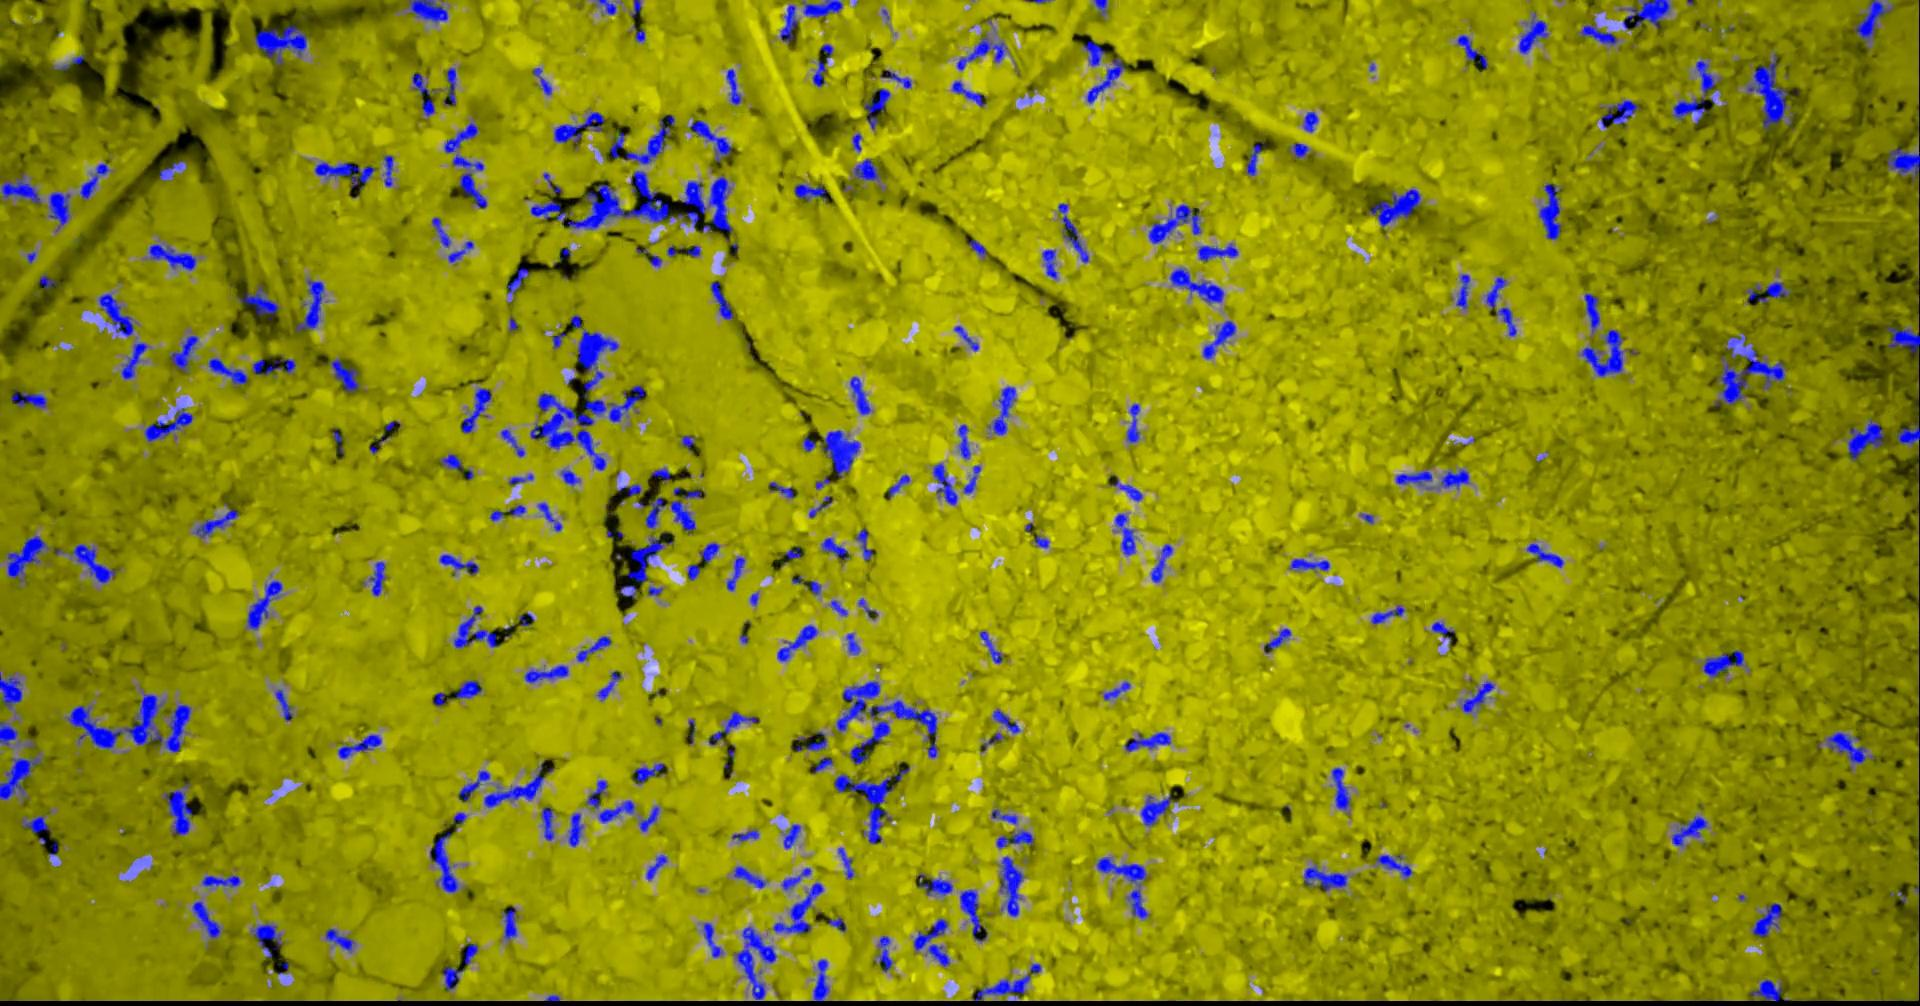ant: (1096, 856, 1148, 918), (734, 926, 776, 998), (1672, 60, 1718, 124), (483, 760, 543, 807), (772, 882, 823, 934), (973, 963, 1040, 1001), (625, 116, 674, 163), (627, 536, 673, 582), (552, 111, 604, 149), (1148, 205, 1200, 243), (1580, 329, 1622, 376), (453, 605, 500, 647), (1170, 267, 1223, 304), (1369, 189, 1420, 227), (1853, 0, 1893, 47), (69, 542, 116, 583), (1057, 203, 1088, 262), (820, 429, 858, 478), (690, 119, 731, 163), (1086, 57, 1125, 103), (8, 535, 47, 580), (429, 831, 458, 892), (0, 756, 41, 799), (246, 580, 282, 629), (913, 918, 949, 967), (850, 720, 889, 763), (956, 36, 1006, 70), (709, 711, 759, 744), (143, 406, 192, 441), (314, 161, 375, 188), (1848, 418, 1884, 460), (98, 293, 133, 337), (1618, 0, 1670, 29), (776, 624, 817, 661), (164, 781, 192, 835), (295, 279, 323, 332), (959, 889, 987, 941), (999, 856, 1023, 916), (237, 285, 279, 319), (460, 387, 491, 432), (1825, 730, 1865, 763), (1749, 978, 1807, 1001), (1887, 147, 1919, 189), (0, 171, 41, 203), (1517, 11, 1548, 53), (1538, 183, 1561, 239), (194, 508, 237, 537), (1203, 320, 1236, 358), (149, 244, 196, 271), (989, 386, 1015, 434), (1140, 794, 1177, 826), (1600, 99, 1639, 127), (1703, 650, 1743, 677), (1671, 815, 1707, 846), (190, 901, 220, 937), (337, 734, 381, 758), (1303, 866, 1347, 890), (863, 88, 889, 130), (1462, 680, 1493, 713), (250, 923, 282, 956), (443, 122, 477, 152), (79, 163, 108, 198), (932, 464, 957, 504), (458, 171, 486, 208), (169, 335, 197, 372), (119, 342, 147, 379), (1746, 281, 1790, 304), (1457, 34, 1487, 67), (329, 358, 359, 391), (1752, 902, 1782, 936), (208, 358, 248, 384), (411, 72, 434, 116), (458, 770, 489, 801), (1884, 326, 1919, 354), (1114, 513, 1137, 555), (1375, 854, 1412, 879), (1526, 542, 1563, 567), (48, 191, 70, 231), (710, 281, 733, 319), (1124, 732, 1170, 751), (575, 636, 611, 661), (811, 44, 832, 86), (408, 0, 447, 22), (1150, 542, 1172, 582), (951, 80, 984, 105), (439, 554, 477, 575), (917, 873, 952, 895), (1331, 767, 1350, 809), (0, 671, 22, 708), (850, 376, 870, 414), (596, 669, 621, 700), (598, 800, 634, 822), (733, 865, 766, 888), (1580, 24, 1617, 44), (537, 502, 563, 531), (670, 500, 695, 531), (979, 631, 1002, 663), (1197, 243, 1238, 260), (251, 358, 295, 375), (1109, 479, 1142, 500), (524, 666, 568, 682), (996, 829, 1032, 848), (780, 4, 797, 43), (780, 868, 810, 890), (702, 922, 723, 956), (10, 389, 46, 408), (1263, 627, 1290, 653), (992, 708, 1018, 733), (872, 935, 891, 970), (801, 0, 842, 17), (952, 325, 978, 351), (645, 497, 665, 528), (505, 267, 530, 293), (500, 429, 524, 456), (325, 929, 353, 951), (813, 959, 828, 1001), (1495, 307, 1516, 337), (585, 779, 607, 808), (1484, 277, 1505, 307), (795, 730, 825, 751), (632, 763, 663, 784), (1370, 605, 1404, 622), (822, 537, 850, 559), (855, 527, 872, 560), (726, 556, 744, 589), (1583, 293, 1599, 332), (1082, 39, 1103, 66), (1440, 469, 1468, 489), (879, 69, 910, 86), (794, 183, 825, 201), (274, 688, 292, 720), (430, 217, 450, 246), (855, 158, 879, 180), (1896, 420, 1919, 445), (447, 240, 472, 262), (368, 561, 385, 594), (726, 69, 742, 104), (532, 67, 551, 95), (837, 847, 853, 879), (888, 474, 909, 498), (808, 495, 832, 517), (442, 967, 463, 991), (1289, 558, 1330, 570), (455, 680, 481, 699), (1103, 681, 1130, 700), (452, 154, 483, 170), (568, 813, 583, 846), (1126, 403, 1139, 442), (963, 465, 980, 493), (1396, 471, 1431, 485), (22, 815, 50, 833), (378, 420, 399, 445), (637, 807, 658, 831), (443, 67, 456, 105), (1246, 144, 1261, 175), (157, 160, 183, 179), (646, 854, 665, 879), (1431, 621, 1454, 641), (1455, 274, 1469, 307), (502, 906, 516, 939), (980, 732, 1004, 751), (1041, 249, 1057, 278), (957, 424, 970, 459), (201, 875, 239, 887), (0, 721, 18, 746), (540, 807, 552, 840), (783, 824, 800, 848), (543, 171, 561, 193), (810, 756, 832, 774), (610, 131, 623, 158), (990, 809, 1017, 823), (770, 481, 794, 497), (700, 542, 719, 561), (439, 453, 462, 469), (968, 238, 985, 257), (508, 473, 533, 485), (38, 273, 57, 290), (560, 469, 579, 485), (1288, 142, 1308, 158), (382, 155, 392, 185), (616, 483, 640, 495), (731, 829, 758, 841), (594, 0, 616, 14), (846, 633, 860, 654), (463, 942, 477, 964), (1303, 111, 1317, 131), (331, 429, 343, 453), (827, 916, 844, 931), (650, 467, 670, 480), (830, 600, 847, 615), (803, 432, 815, 451), (679, 245, 700, 257), (551, 332, 565, 348), (804, 580, 820, 594), (681, 434, 693, 451), (785, 546, 801, 559), (682, 489, 705, 498), (1093, 0, 1106, 15), (505, 504, 524, 514), (518, 612, 533, 625), (630, 0, 641, 17), (687, 564, 698, 580), (851, 133, 861, 151), (1034, 535, 1048, 547), (432, 692, 444, 706), (632, 25, 644, 41), (570, 315, 582, 328), (453, 812, 466, 823), (489, 509, 503, 520), (648, 586, 662, 594)
